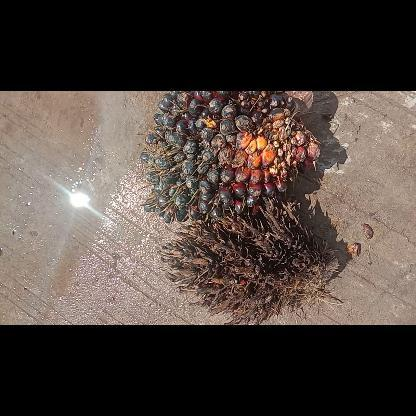Janjang kosong: (156, 198, 340, 324)
TBS mentah: (135, 91, 319, 225)
